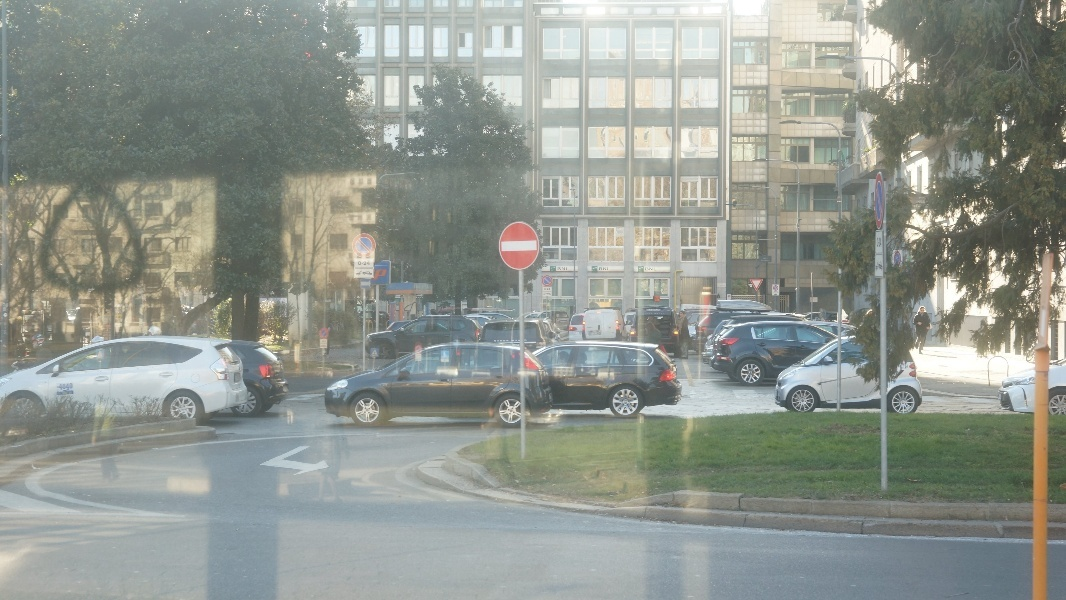text: (377, 269, 384, 280), (545, 288, 560, 291), (359, 261, 368, 266), (645, 268, 656, 271), (561, 267, 569, 271), (599, 268, 608, 271), (385, 269, 387, 280), (558, 267, 560, 271), (609, 268, 611, 271), (369, 261, 370, 266)
